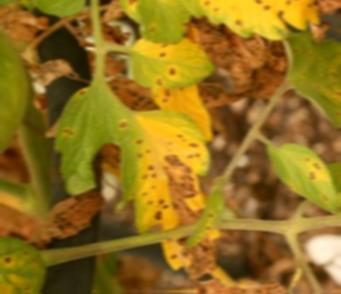Tomato Septoria leaf spot: (98, 85, 231, 277), (124, 31, 216, 98)
